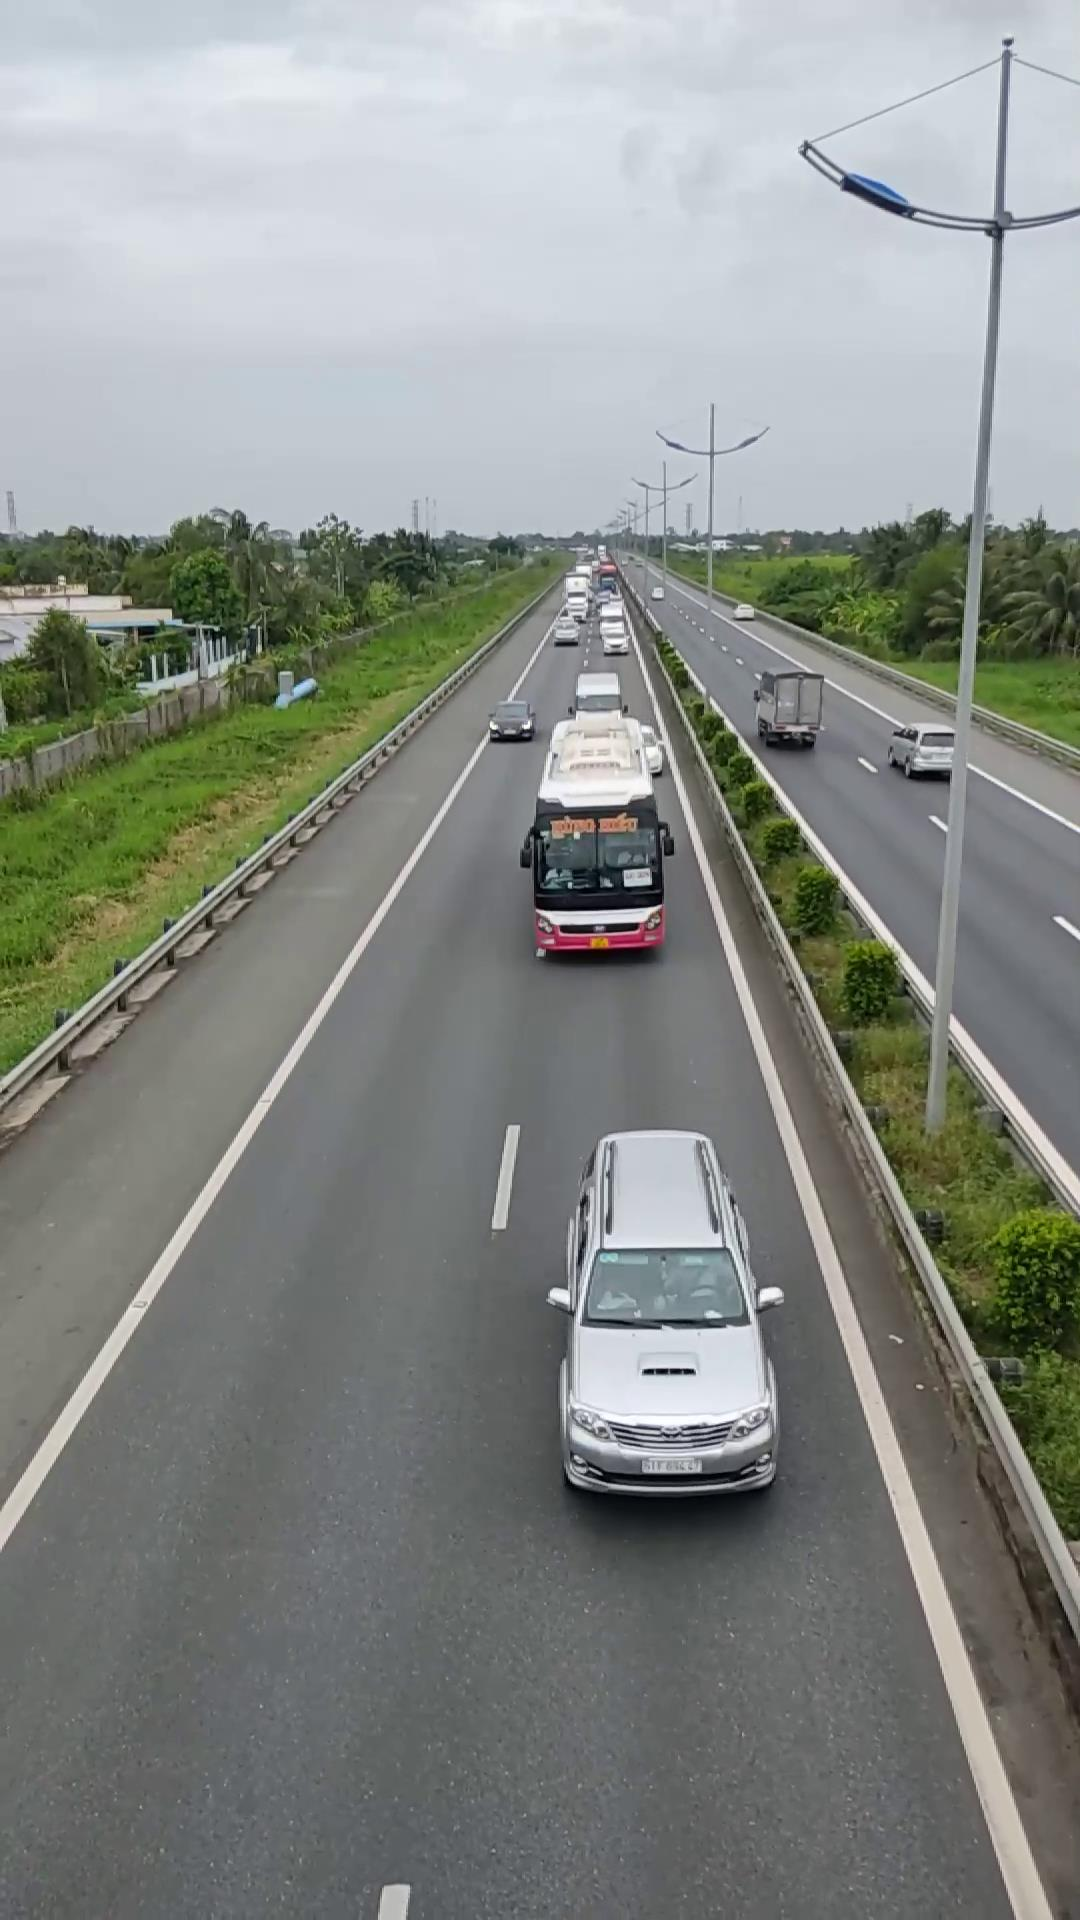bus: (520, 713, 673, 955)
car: (550, 1127, 783, 1499)
truck: (752, 663, 825, 746)
